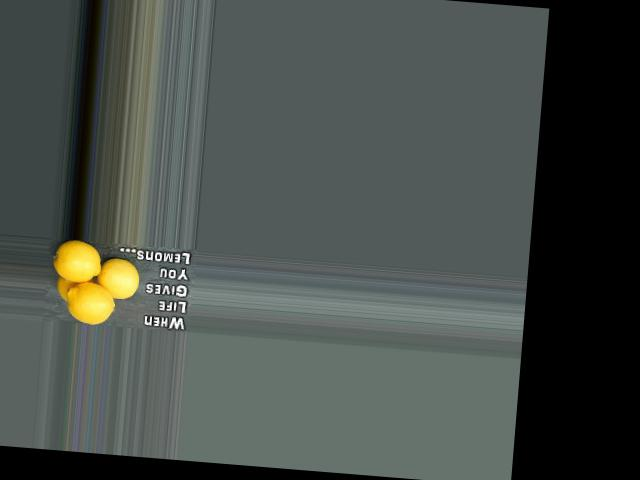lemon: (52, 241, 105, 283)
